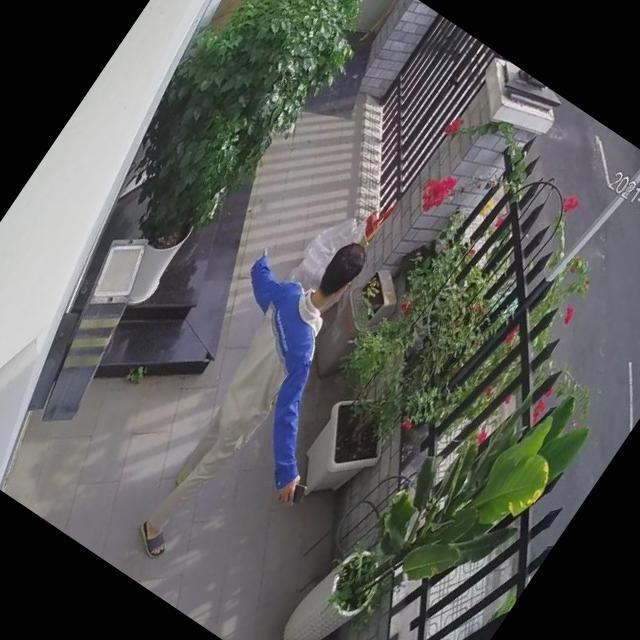person: (90, 205, 433, 603)
